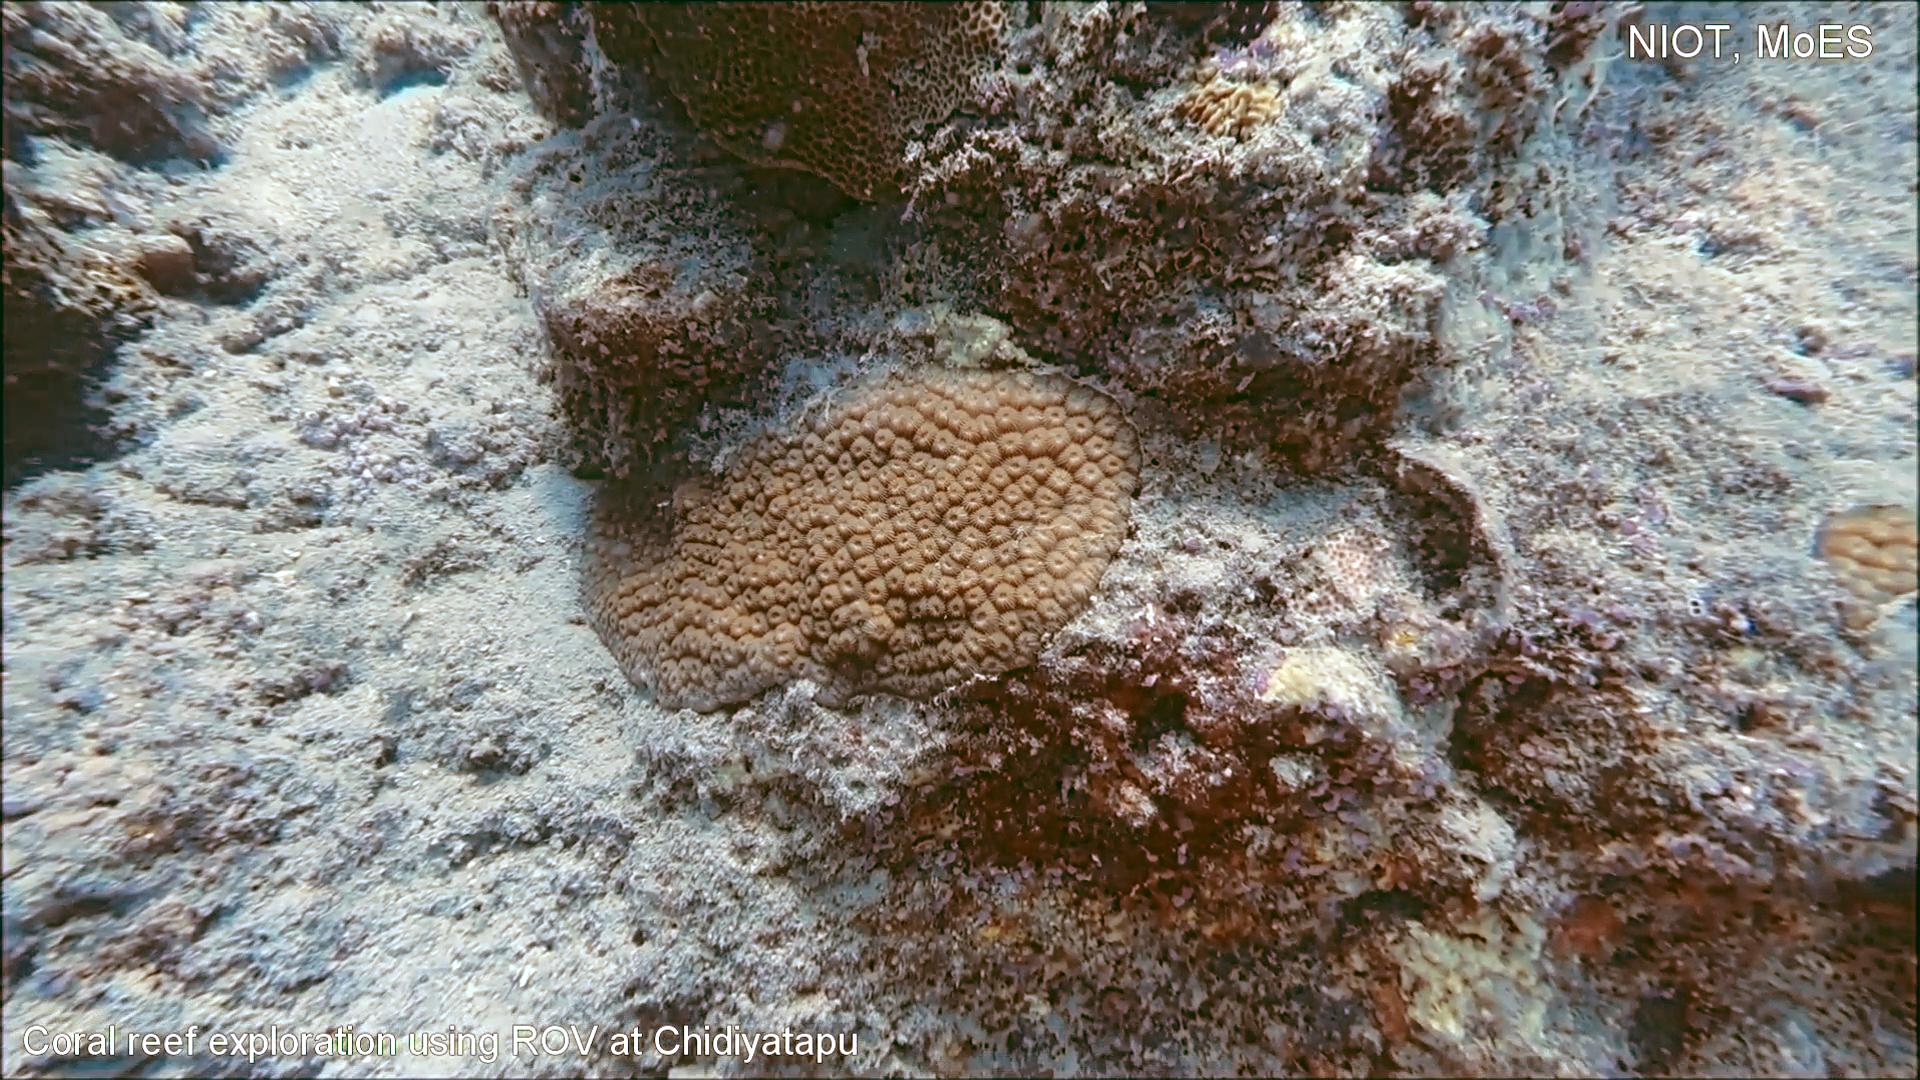Montastraea: (572, 352, 1150, 724), (1804, 495, 1920, 654)
